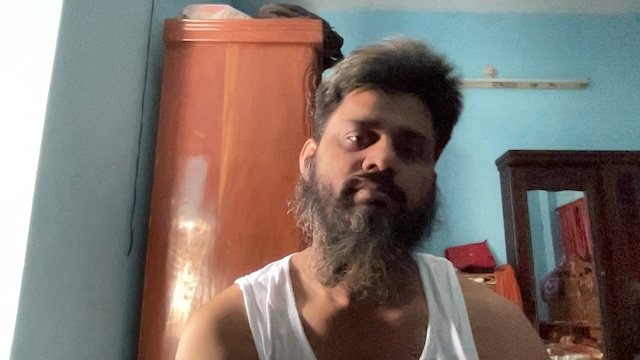Helmet: (297, 49, 448, 285)
